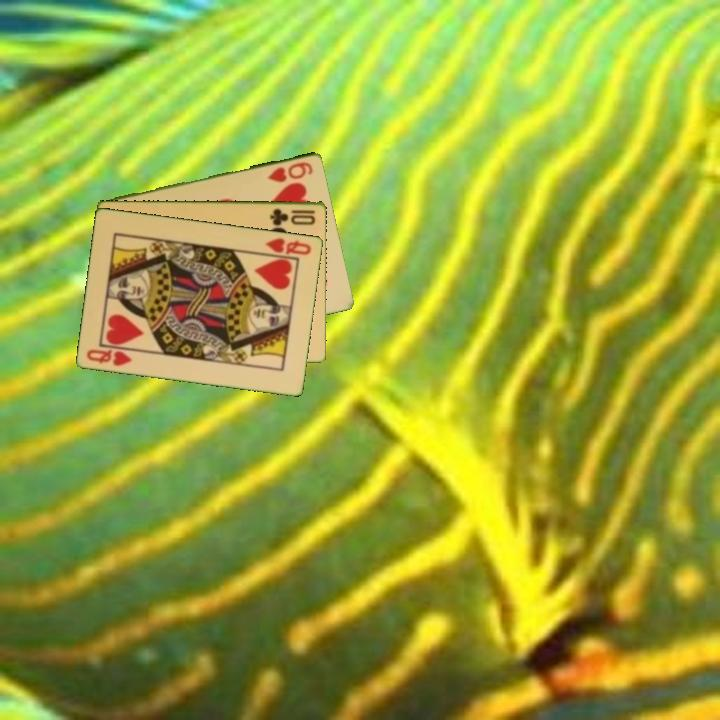10c: (267, 204, 318, 227)
6h: (264, 158, 316, 185)
Qh: (262, 234, 314, 257), (83, 345, 135, 368)
